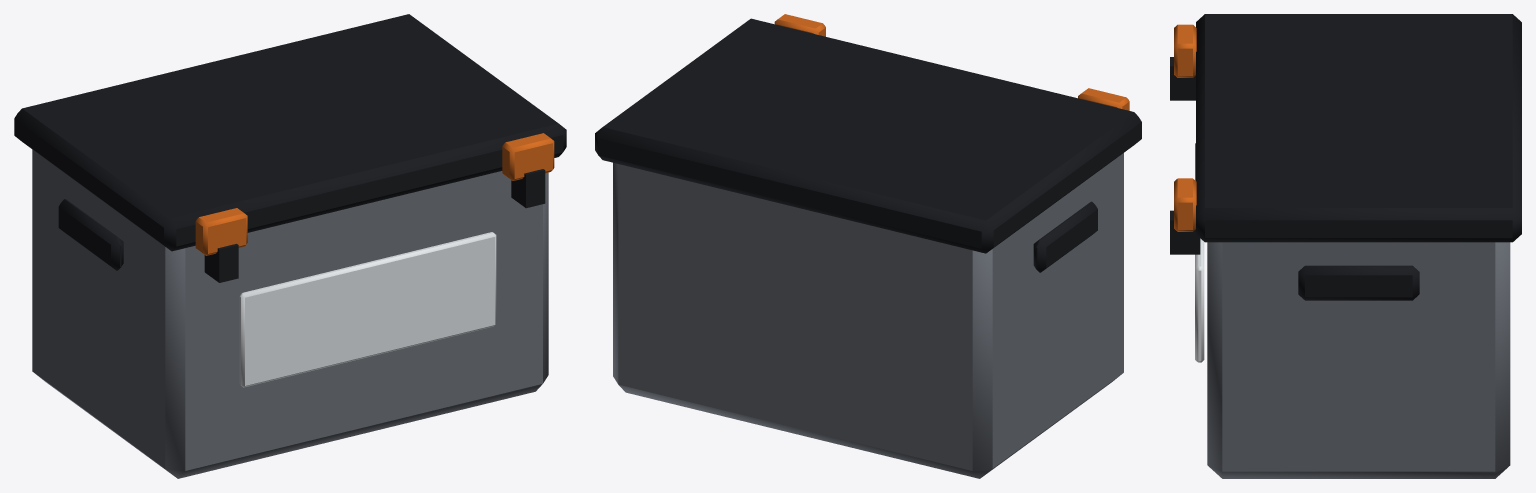
File: crate_tote_grey.glb
3 views of the same model, side by side, from view 1: azimuth 30°, elevation 25°; view 2: azimuth 150°, elevation 25°; view 3: azimuth 270°, elevation 25° (orthographic). The views are drawn at different scales.
Visible parts, largest first — view 1: crate_tote_grey; view 2: crate_tote_grey; view 3: crate_tote_grey.
Boxes of the visible parts, box(x1,y1,x2,y2) form: crate_tote_grey: box(14, 14, 566, 478); crate_tote_grey: box(595, 14, 1141, 478); crate_tote_grey: box(1170, 14, 1521, 478).
Bounding box in the file's own units: 0.644 × 0.405 × 0.464.
